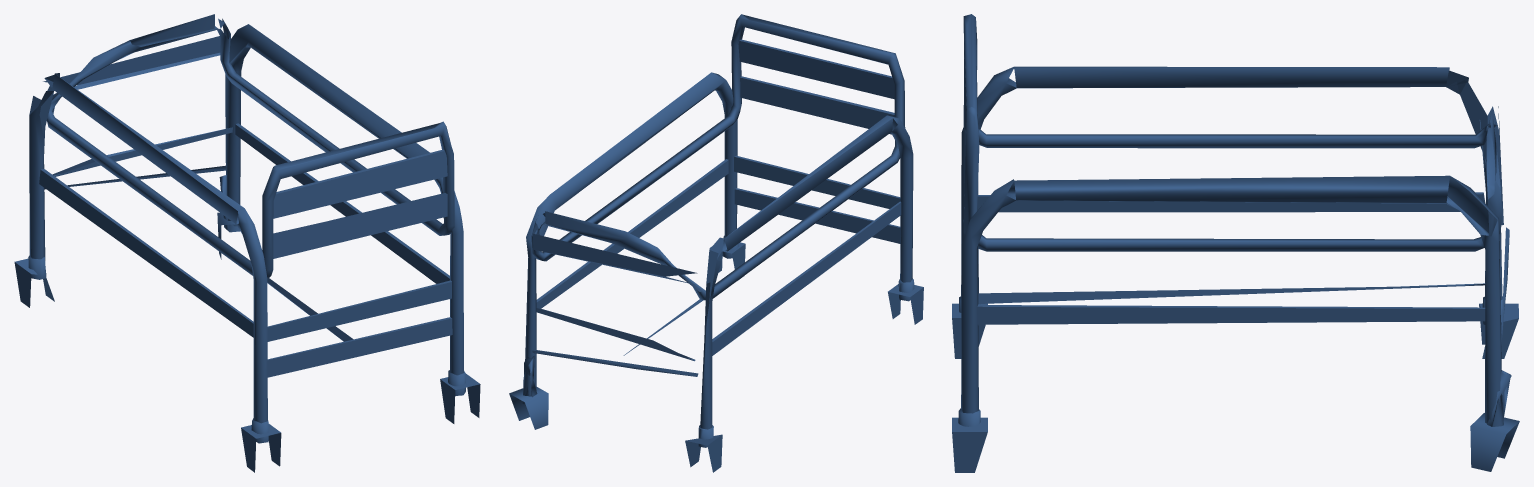
File: hospitalbed.fbx
3 views of the same model, side by side, from view 1: azimuth 30°, elevation 25°; view 2: azimuth 150°, elevation 25°; view 3: azimuth 270°, elevation 25° (orthographic). The views are drawn at different scales.
Visible parts, largest first — view 1: lowpoly; view 2: lowpoly; view 3: lowpoly.
Boxes of the visible parts, left/top/right/bottom form: lowpoly: left=14, top=14, right=480, bottom=472; lowpoly: left=509, top=14, right=923, bottom=472; lowpoly: left=952, top=14, right=1519, bottom=472.
Bounding box in the file's own units: 133 × 167 × 246.
